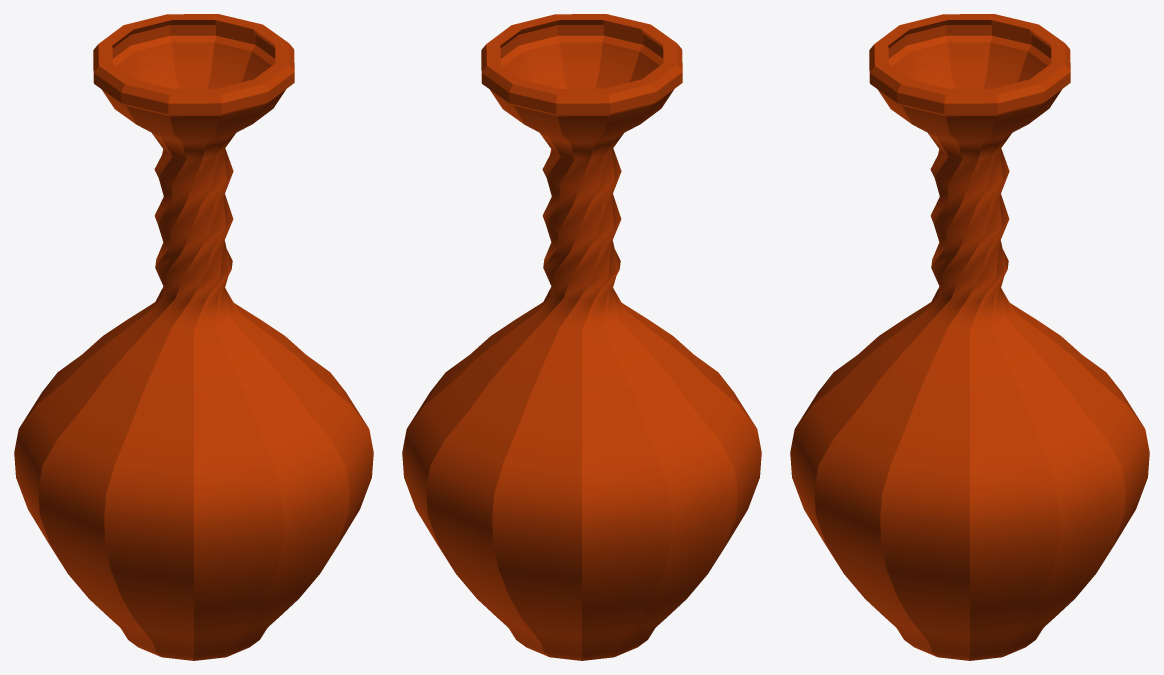
File: vase3_ascii.fbx
The picture shows the model from 3 angles, left to right: view 1: azimuth 30°, elevation 25°; view 2: azimuth 150°, elevation 25°; view 3: azimuth 270°, elevation 25°; orthographic projection.
Visible parts, largest first — view 1: pCylinder3; view 2: pCylinder3; view 3: pCylinder3.
Part boxes in pixels (x1=…): pCylinder3: x1=14, y1=14, x2=373, y2=660; pCylinder3: x1=402, y1=14, x2=761, y2=660; pCylinder3: x1=790, y1=14, x2=1149, y2=660.
Size of the model in its own units: 15.17 by 26.97 by 15.17.
